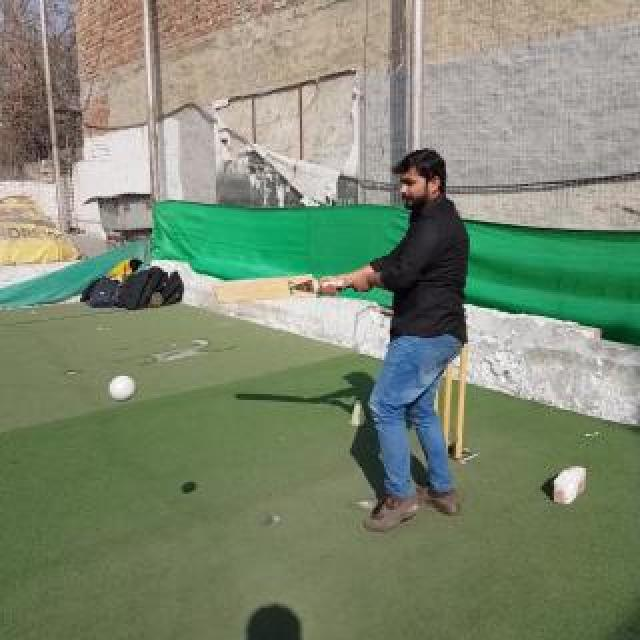ball: (109, 375, 135, 401)
bat: (212, 272, 350, 304)
